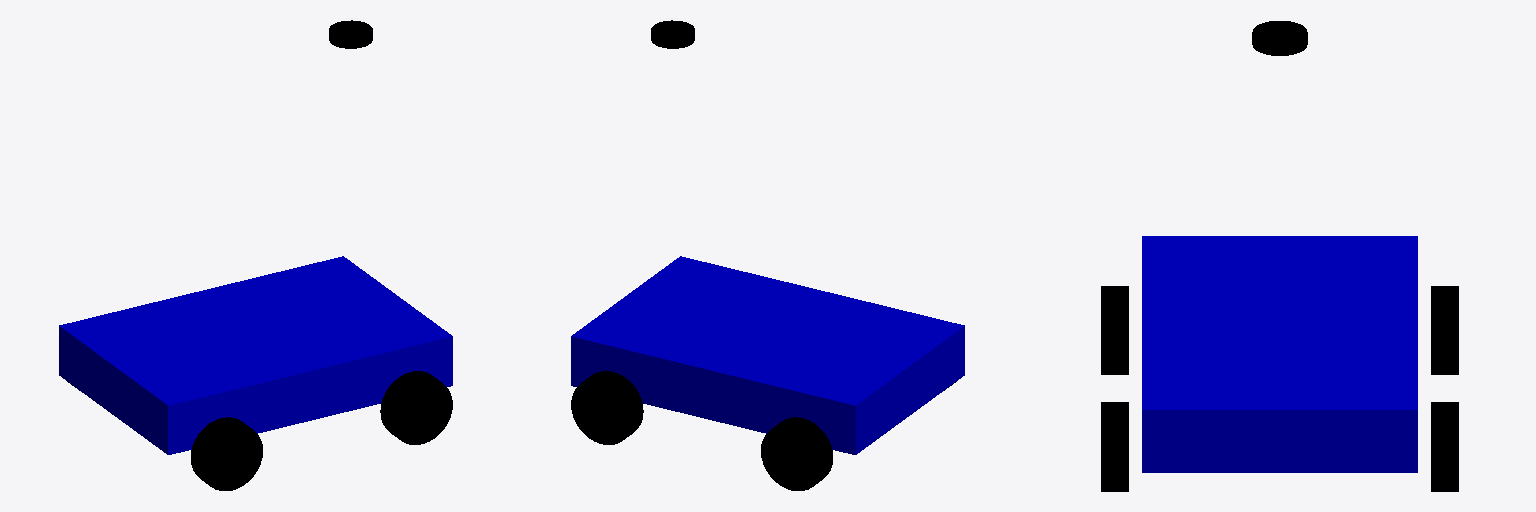
URDF robot description (robot):
<?xml version="1.0"?>
<robot name="robot">

  <material name="blue"><color rgba="0 0 0.8 1"/></material>
  <material name="black"><color rgba="0 0 0 1"/></material>

  <link name="base_footprint"/>
  <joint name="base_joint" type="fixed">
    <parent link="base_footprint"/><child link="base_link"/><origin xyz="0 0 0.06" rpy="0 0 0"/>
  </joint>

  <link name="base_link">
    <visual><geometry><box size="0.3 0.2 0.05"/></geometry><material name="blue"/></visual>
    <collision><geometry><box size="0.3 0.2 0.05"/></geometry></collision>
    <inertial>
      <mass value="1.2"/>
      <origin xyz="0 0 -0.02"/>
      <inertia ixx="0.01" ixy="0" ixz="0" iyy="0.01" iyz="0" izz="0.01"/>
    </inertial>
  </link>

  <link name="laser_frame">
    <visual><geometry><cylinder radius="0.02" length="0.01"/></geometry><material name="black"/></visual>
    <collision><geometry><cylinder radius="0.02" length="0.01"/></geometry></collision>
  </link>
  <joint name="laser_joint" type="fixed">
    <parent link="base_link"/><child link="laser_frame"/><origin xyz="0.1 0 0.30" rpy="0 0 0"/>
  </joint>

  <!-- WHEEL DEFINITIONS (15mm CLEARANCE) -->
  <link name="front_left_wheel">
    <visual><geometry><cylinder radius="0.0325" length="0.02"/></geometry><material name="black"/></visual>
    <collision><geometry><cylinder radius="0.0325" length="0.02"/></geometry>
      <surface><friction><ode><mu>2.0</mu><mu2>1.5</mu2><fdir1>1 1 0</fdir1></ode></friction></surface>
    </collision>
    <inertial><mass value="0.15"/><inertia ixx="0.0001" ixy="0" ixz="0" iyy="0.0001" iyz="0" izz="0.0001"/></inertial>
  </link>
  <joint name="front_left_wheel_joint" type="continuous"><parent link="base_link"/><child link="front_left_wheel"/><origin xyz="0.1 0.12 -0.0275" rpy="1.5707 0 0"/><axis xyz="0 0 -1"/></joint>

  <link name="front_right_wheel">
    <visual><geometry><cylinder radius="0.0325" length="0.02"/></geometry><material name="black"/></visual>
    <collision><geometry><cylinder radius="0.0325" length="0.02"/></geometry>
      <surface><friction><ode><mu>2.0</mu><mu2>1.5</mu2><fdir1>1 -1 0</fdir1></ode></friction></surface>
    </collision>
    <inertial><mass value="0.15"/><inertia ixx="0.0001" ixy="0" ixz="0" iyy="0.0001" iyz="0" izz="0.0001"/></inertial>
  </link>
  <joint name="front_right_wheel_joint" type="continuous"><parent link="base_link"/><child link="front_right_wheel"/><origin xyz="0.1 -0.12 -0.0275" rpy="1.5707 0 0"/><axis xyz="0 0 -1"/></joint>

  <link name="back_left_wheel">
    <visual><geometry><cylinder radius="0.0325" length="0.02"/></geometry><material name="black"/></visual>
    <collision><geometry><cylinder radius="0.0325" length="0.02"/></geometry>
      <surface><friction><ode><mu>2.0</mu><mu2>1.5</mu2><fdir1>1 -1 0</fdir1></ode></friction></surface>
    </collision>
    <inertial><mass value="0.15"/><inertia ixx="0.0001" ixy="0" ixz="0" iyy="0.0001" iyz="0" izz="0.0001"/></inertial>
  </link>
  <joint name="back_left_wheel_joint" type="continuous"><parent link="base_link"/><child link="back_left_wheel"/><origin xyz="-0.1 0.12 -0.0275" rpy="1.5707 0 0"/><axis xyz="0 0 -1"/></joint>

  <link name="back_right_wheel">
    <visual><geometry><cylinder radius="0.0325" length="0.02"/></geometry><material name="black"/></visual>
    <collision><geometry><cylinder radius="0.0325" length="0.02"/></geometry>
      <surface><friction><ode><mu>2.0</mu><mu2>1.5</mu2><fdir1>1 1 0</fdir1></ode></friction></surface>
    </collision>
    <inertial><mass value="0.15"/><inertia ixx="0.0001" ixy="0" ixz="0" iyy="0.0001" iyz="0" izz="0.0001"/></inertial>
  </link>
  <joint name="back_right_wheel_joint" type="continuous"><parent link="base_link"/><child link="back_right_wheel"/><origin xyz="-0.1 -0.12 -0.0275" rpy="1.5707 0 0"/><axis xyz="0 0 -1"/></joint>

  <gazebo reference="base_link"><material>Gazebo/Blue</material></gazebo>
  <gazebo reference="front_left_wheel"><material>Gazebo/Black</material></gazebo>
  <gazebo reference="front_right_wheel"><material>Gazebo/Black</material></gazebo>
  <gazebo reference="back_left_wheel"><material>Gazebo/Black</material></gazebo>
  <gazebo reference="back_right_wheel"><material>Gazebo/Black</material></gazebo>

  <gazebo reference="laser_frame">
    <sensor name="gpu_lidar" type="gpu_lidar">
      <pose>0 0 0 0 0 0</pose><always_on>true</always_on><update_rate>10</update_rate><visualize>true</visualize><topic>/scan</topic>
      <lidar><scan><horizontal><samples>360</samples><resolution>1</resolution><min_angle>-3.14</min_angle><max_angle>3.14</max_angle></horizontal></scan><range><min>0.15</min><max>20.0</max></range></lidar>
      <gz_frame_id>laser_frame</gz_frame_id>
    </sensor>
  </gazebo>

  <gazebo>
    <plugin filename="gz-sim-mecanum-drive-system" name="gz::sim::systems::MecanumDrive">
      <front_left_joint>front_left_wheel_joint</front_left_joint>
      <front_right_joint>front_right_wheel_joint</front_right_joint>
      <back_left_joint>back_left_wheel_joint</back_left_joint>
      <back_right_joint>back_right_wheel_joint</back_right_joint>
      <wheel_radius>0.0325</wheel_radius>
      <topic>/cmd_vel</topic>
    </plugin>
    <plugin filename="gz-sim-odometry-publisher-system" name="gz::sim::systems::OdometryPublisher">
      <odom_topic>/odom</odom_topic><tf_topic>/tf</tf_topic><robot_base_frame>base_footprint</robot_base_frame>
      <publish_odom_tf>true</publish_odom_tf>
    </plugin>
  </gazebo>
</robot>

--- Facts derived from the render (not from the file) ---
Views: 3 orthographic renders of the robot side by side, from view 1: azimuth 30°, elevation 25°; view 2: azimuth 150°, elevation 25°; view 3: azimuth 270°, elevation 25°.
Model robot with 7 links and 6 joints (4 continuous, 2 fixed), rooted at base_footprint, posed every joint at zero.
Links seen in each view (by area): view 1: base_link, front_right_wheel, back_right_wheel, laser_frame; view 2: base_link, front_left_wheel, back_left_wheel, laser_frame; view 3: base_link, front_left_wheel, front_right_wheel, back_left_wheel, back_right_wheel, laser_frame.
Link boxes in pixels (bbox=[...]): base_link: bbox=[59, 256, 452, 454]; front_right_wheel: bbox=[380, 371, 452, 444]; back_right_wheel: bbox=[191, 417, 262, 490]; laser_frame: bbox=[329, 20, 372, 48]; base_link: bbox=[571, 256, 964, 454]; front_left_wheel: bbox=[571, 371, 643, 444]; back_left_wheel: bbox=[761, 417, 832, 490]; laser_frame: bbox=[651, 20, 694, 48]; base_link: bbox=[1142, 236, 1417, 472]; front_left_wheel: bbox=[1431, 402, 1458, 491]; front_right_wheel: bbox=[1101, 402, 1128, 491]; back_left_wheel: bbox=[1431, 286, 1458, 374]; back_right_wheel: bbox=[1101, 286, 1128, 374]; laser_frame: bbox=[1252, 21, 1307, 55].
Bounding box of the posed robot: 0.3 × 0.26 × 0.365 m (x, y, z).
Geometry: primitives only (box / cylinder / sphere), no mesh files.
